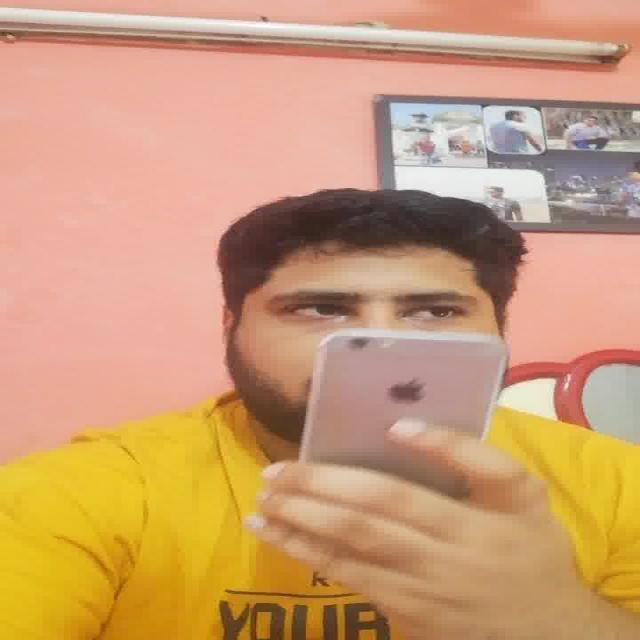phone: (307, 331, 505, 471)
